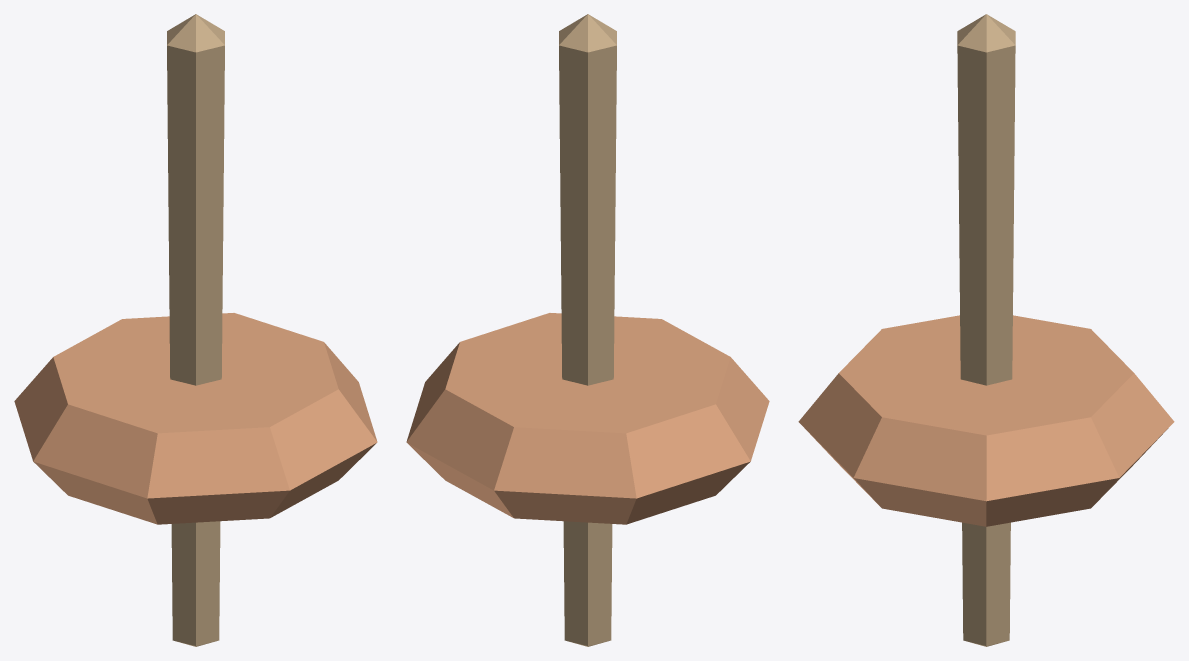
The model's file is prop-spindle-whorl.fbx.
The picture shows the model from 3 angles, left to right: view 1: azimuth 30°, elevation 25°; view 2: azimuth 150°, elevation 25°; view 3: azimuth 270°, elevation 25°; orthographic projection.
Parts seen in each view (by area): view 1: prop-spindle-whorl; view 2: prop-spindle-whorl; view 3: prop-spindle-whorl.
Boxes of the visible parts, x1=… form: prop-spindle-whorl: x1=14, y1=14, x2=377, y2=646; prop-spindle-whorl: x1=406, y1=14, x2=769, y2=646; prop-spindle-whorl: x1=798, y1=14, x2=1174, y2=646.
Size of the model in its own units: 5.6 by 10.4 by 5.6.
